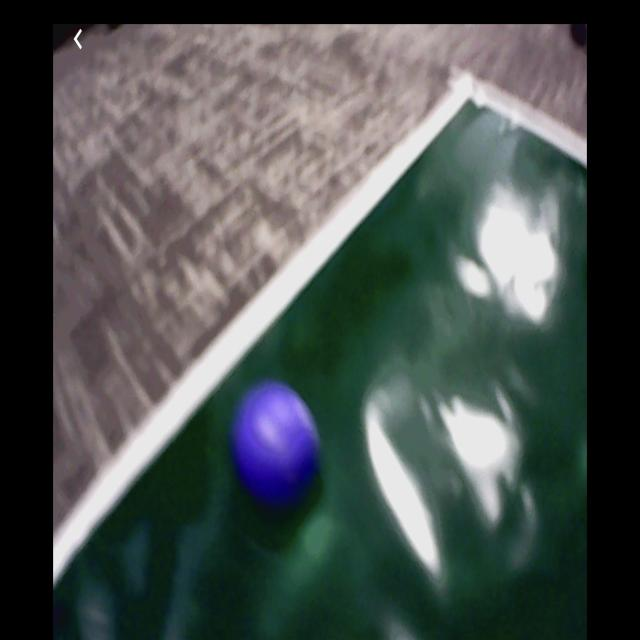ball: (235, 383, 321, 504)
